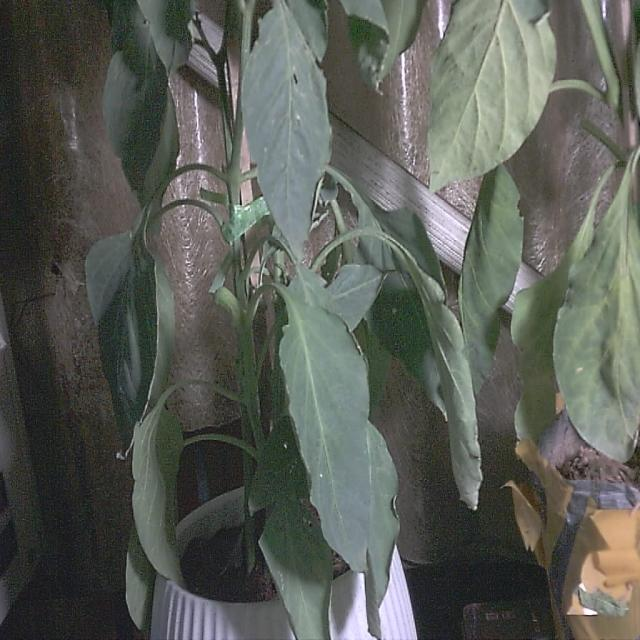Leaf: (554, 152, 639, 460), (429, 0, 556, 191), (242, 0, 330, 256), (459, 165, 523, 394)
